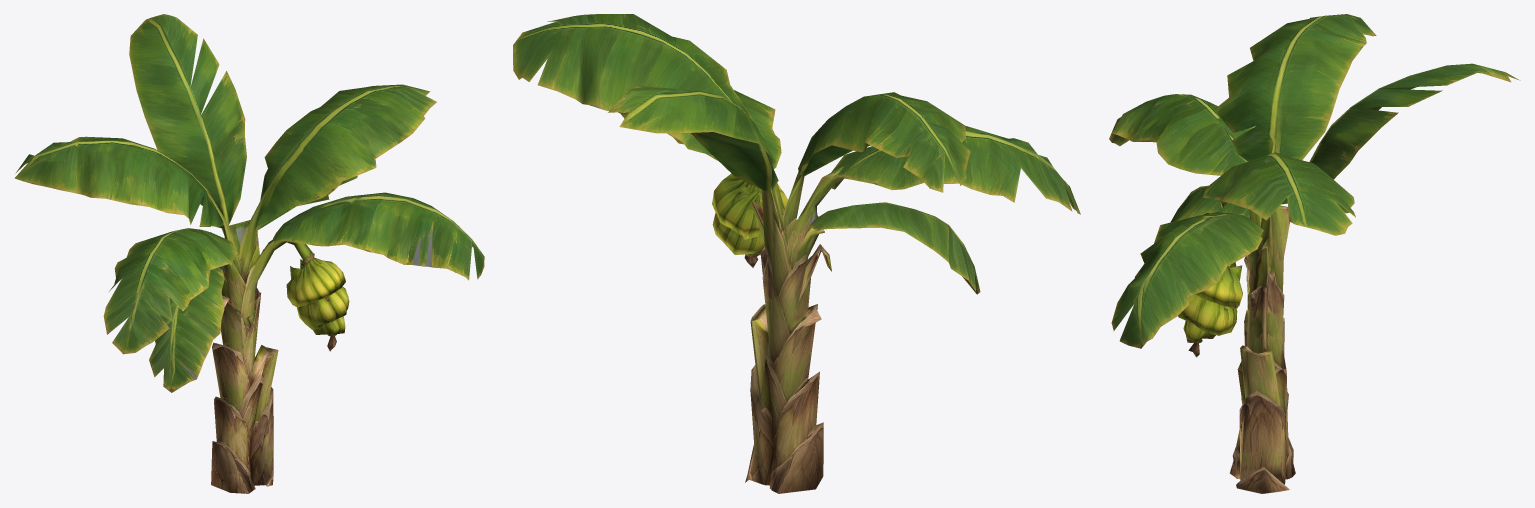
File: Banana Tree.glb
3 renders of one model, left to right at view 1: azimuth 30°, elevation 25°; view 2: azimuth 150°, elevation 25°; view 3: azimuth 270°, elevation 25°, orthographic. The views are drawn at different scales.
Size of the model in its own units: 0.9478 by 0.8994 by 0.7891.
1 material, 1 textured.
